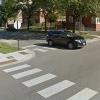Car: (40, 20, 94, 57)
